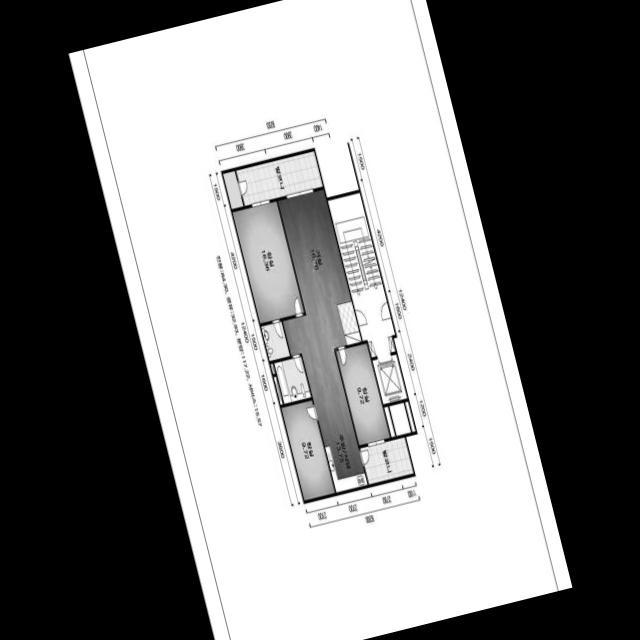background: (68, 0, 572, 640)
space_balconi: (235, 151, 322, 206), (359, 437, 413, 484)
space_bedroom: (232, 201, 304, 323), (335, 343, 389, 445), (281, 400, 334, 500)
space_elevator: (372, 354, 407, 404)
space_front: (337, 301, 361, 345)
space_kitchen: (302, 348, 367, 492)
space_living_room: (277, 189, 351, 356)
space_other: (222, 171, 243, 209), (389, 402, 410, 436), (383, 406, 395, 437), (404, 401, 415, 432), (273, 376, 282, 405), (270, 363, 275, 374)
space_staircase: (327, 192, 395, 357)
space_toilet: (273, 356, 310, 404), (260, 321, 289, 361)
